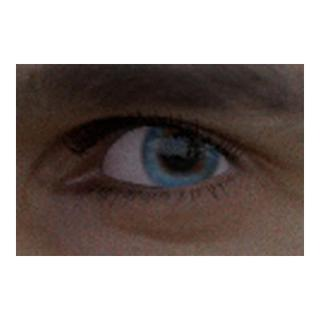pupil: (162, 134, 199, 171)
